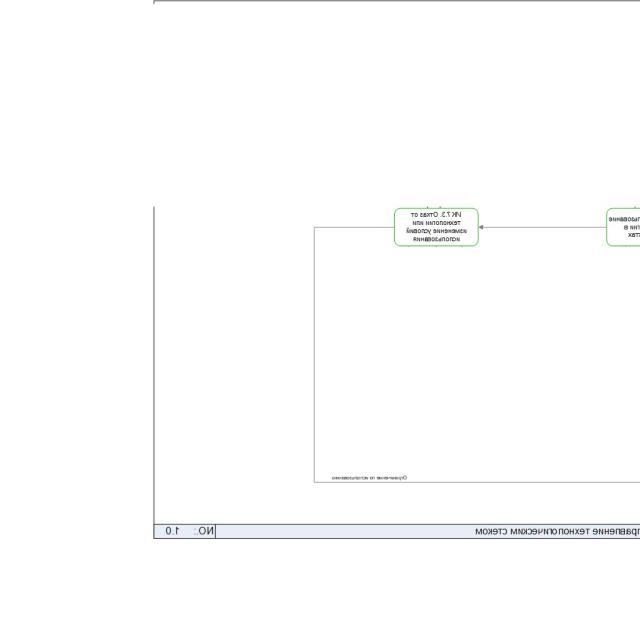arrow: (479, 223, 607, 230)
rectangle: (394, 206, 479, 246)
